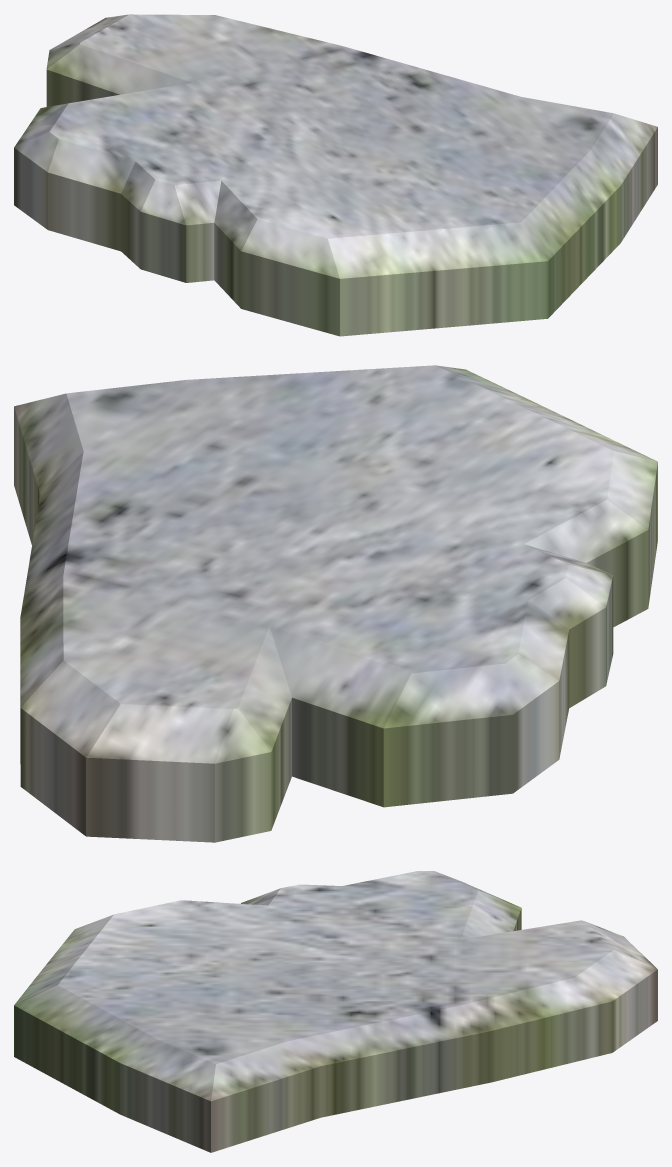
The model's file is stone.14.fbx.
3 views of the same model, one above another, from view 1: azimuth 30°, elevation 25°; view 2: azimuth 150°, elevation 25°; view 3: azimuth 270°, elevation 25° (orthographic). The views are drawn at different scales.
Parts seen in each view (by area): view 1: stone.14; view 2: stone.14; view 3: stone.14.
Part boxes in pixels (x1,y1,x2,y2): stone.14: (14, 14, 657, 336); stone.14: (14, 365, 657, 842); stone.14: (14, 871, 657, 1152).
Size of the model in its own units: 64.92 by 9.74 by 80.27.
Materials: 1 (1 with a texture image).
